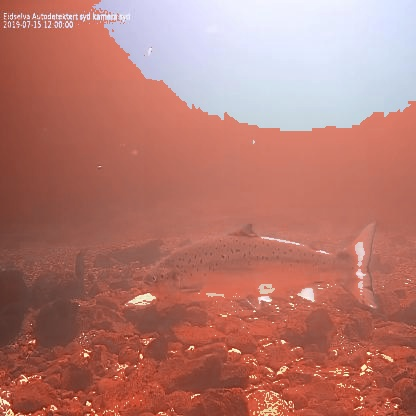salmon: (139, 216, 384, 318)
